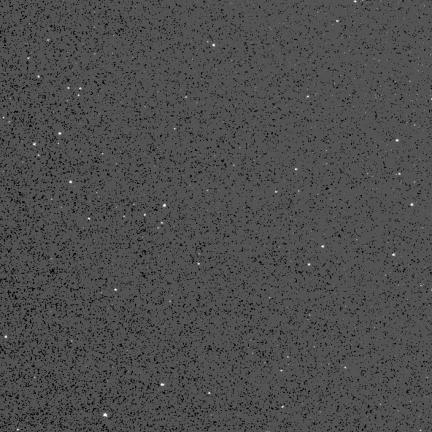blob: (163, 204, 167, 208), (322, 245, 325, 249), (396, 139, 400, 142), (308, 264, 311, 267), (411, 203, 414, 206), (213, 44, 216, 47), (70, 181, 73, 184), (295, 168, 298, 171)
